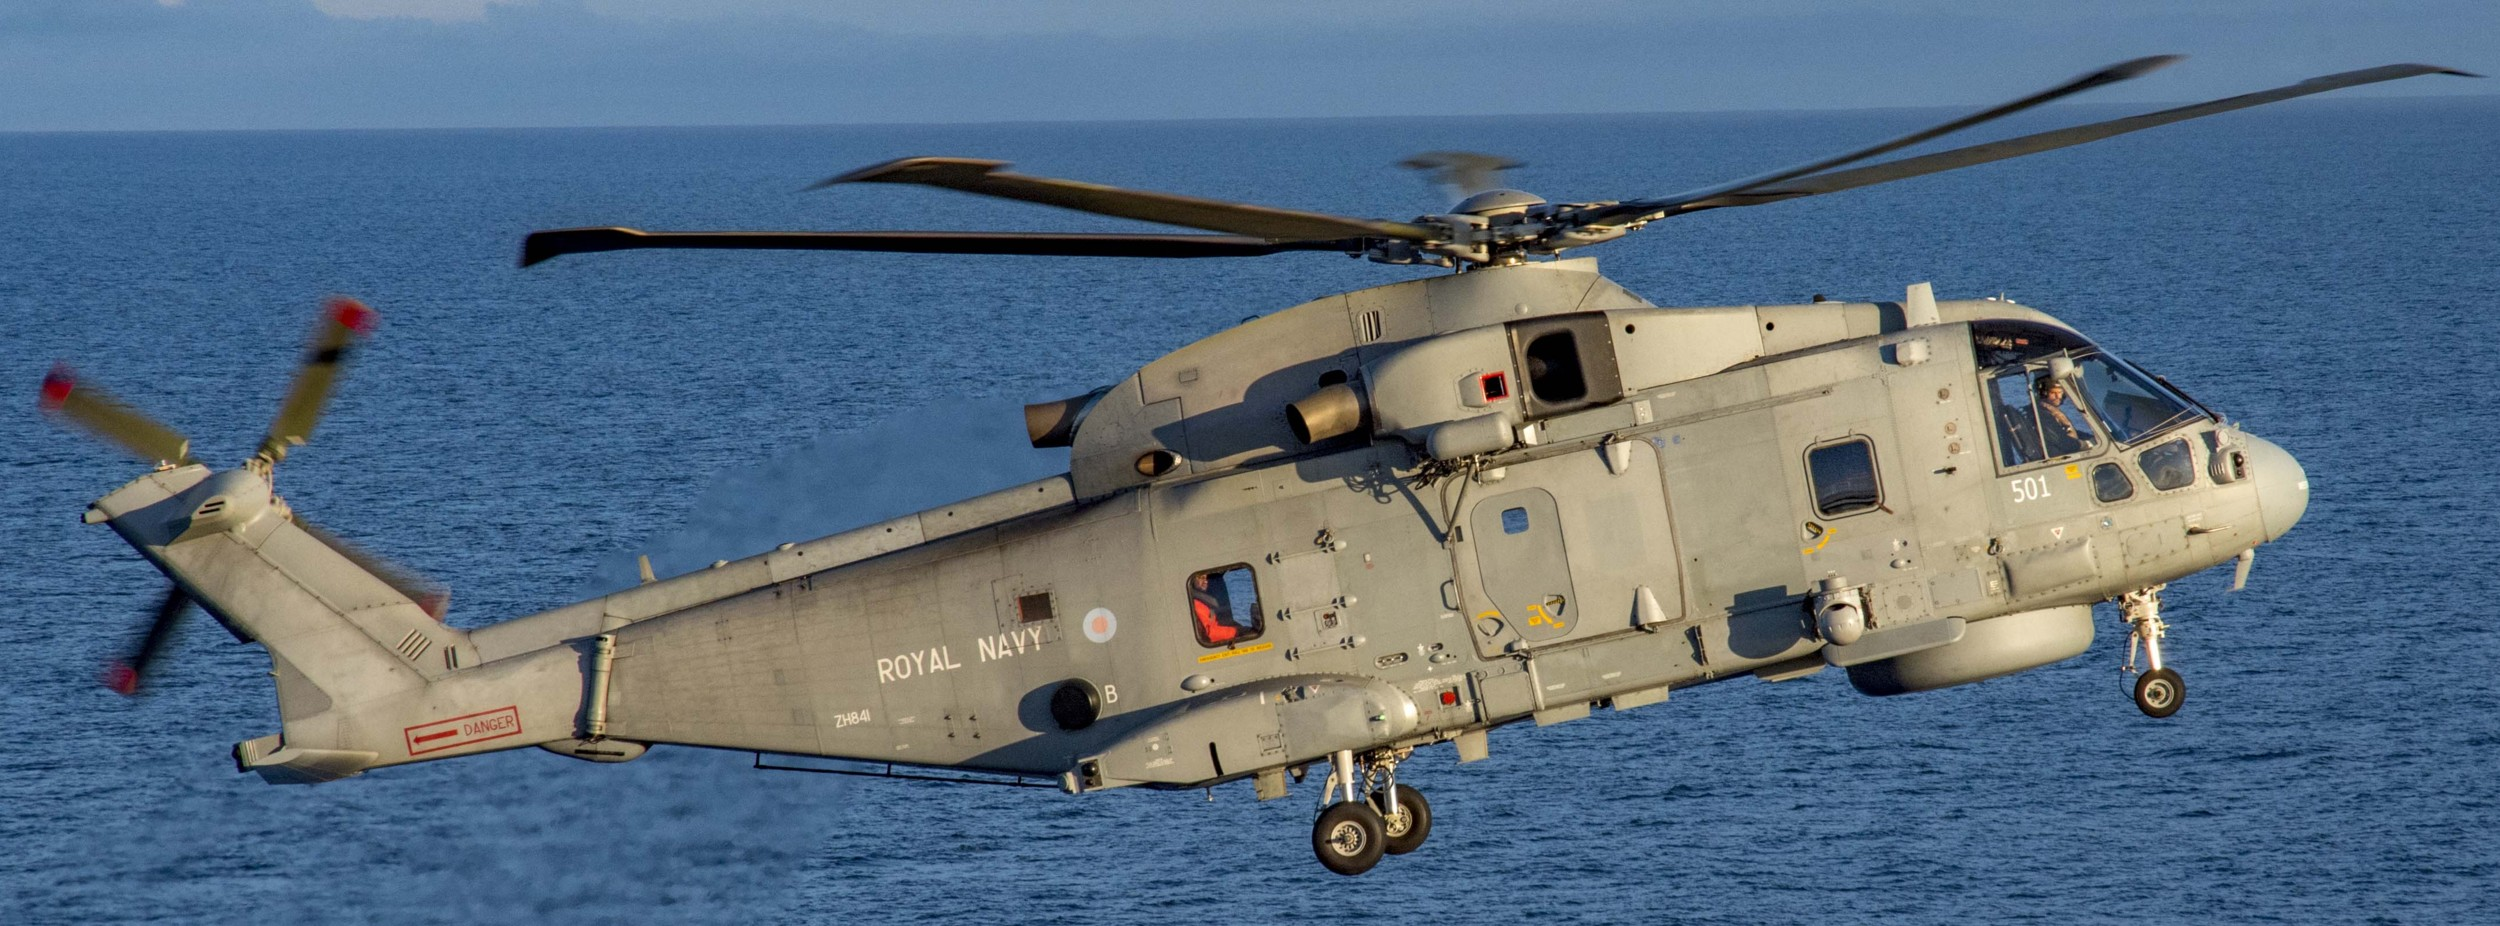Merlin: (37, 129, 2328, 878)
